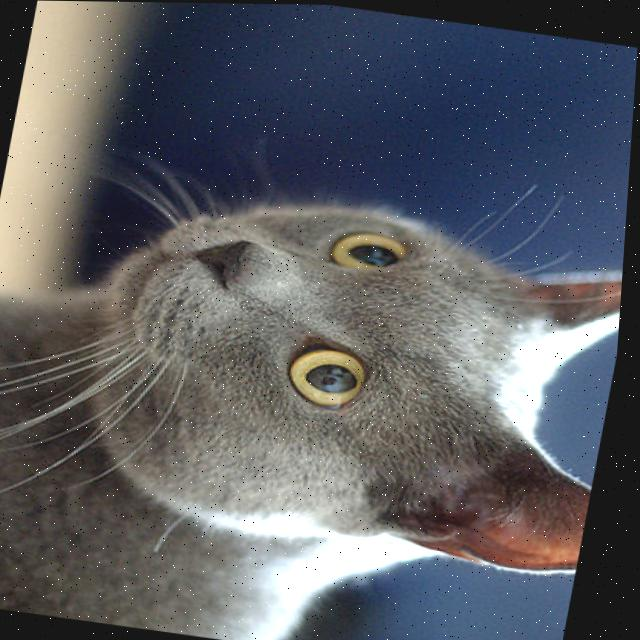British Shorthair: (0, 152, 632, 640)
